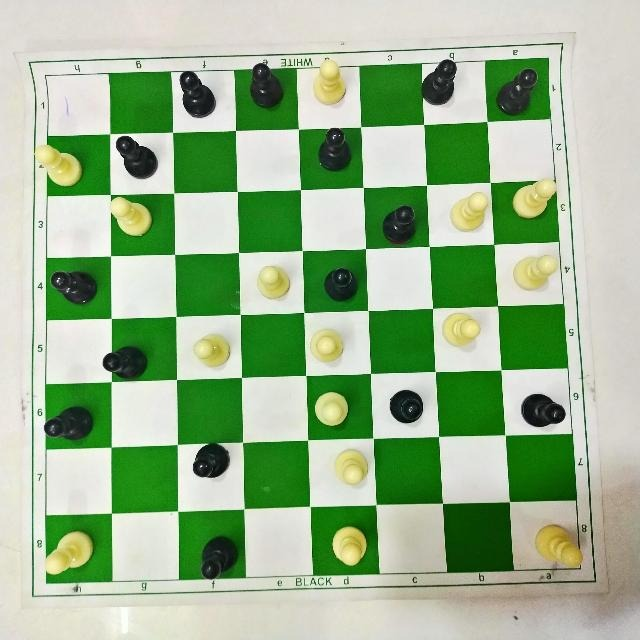black-pawn: (40, 400, 104, 450), (490, 67, 547, 119), (108, 131, 164, 182), (173, 68, 225, 122), (241, 56, 289, 113), (95, 343, 157, 387), (308, 123, 356, 177), (47, 266, 103, 311), (380, 199, 426, 251), (419, 58, 466, 108), (516, 391, 570, 434), (317, 263, 369, 307), (384, 384, 433, 428), (197, 533, 241, 580), (191, 439, 235, 481)
white-pawn: (532, 519, 587, 573), (305, 57, 355, 115), (32, 141, 86, 191), (46, 525, 100, 575), (320, 521, 375, 570), (504, 174, 556, 224), (505, 252, 566, 294), (441, 189, 493, 237), (104, 196, 158, 240), (436, 307, 485, 352), (187, 327, 235, 371), (252, 260, 294, 304), (329, 446, 373, 488), (306, 327, 349, 369), (310, 388, 354, 429)
